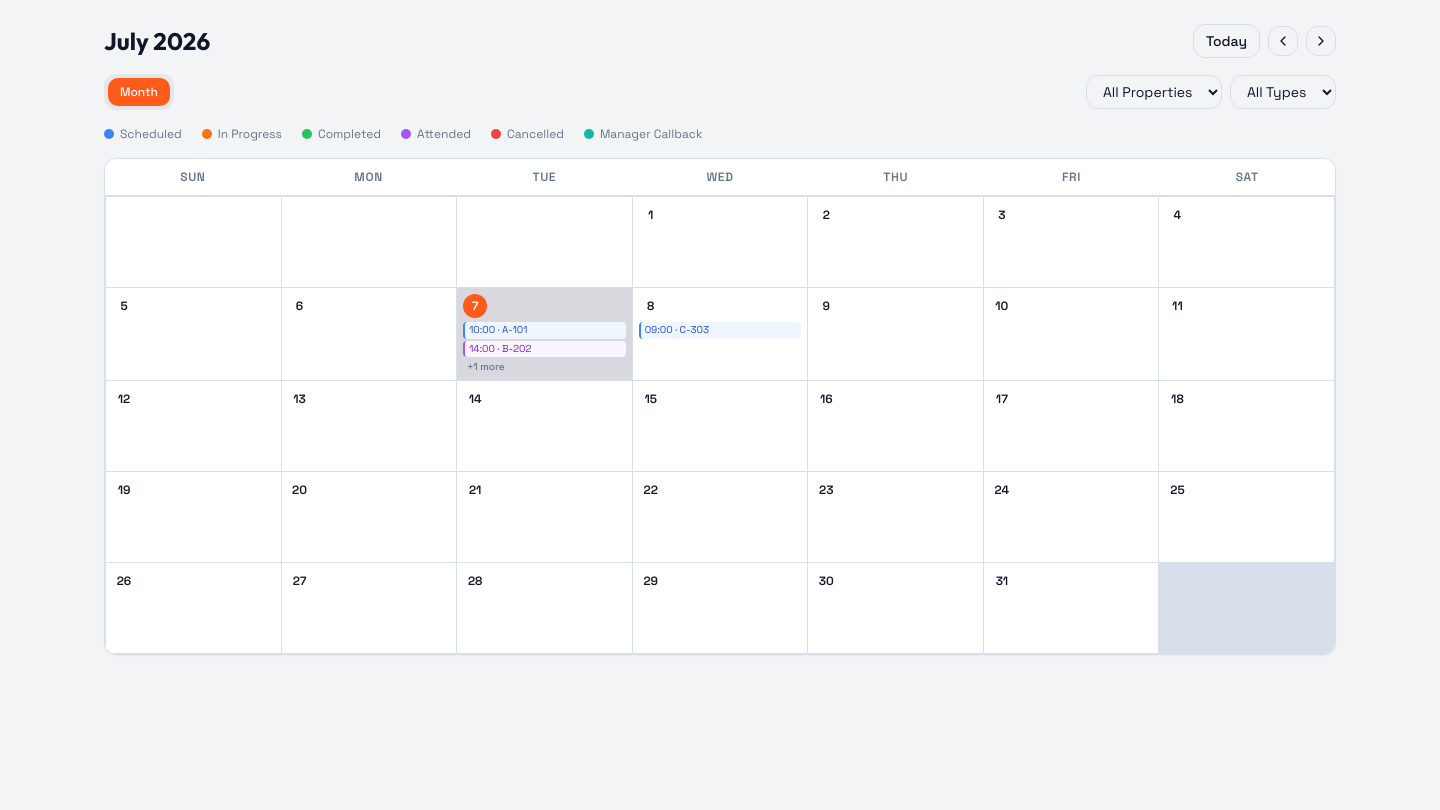
Test case: CalendarView › navigates to the next month on chevron-right click
Header buttons: [Today, ChevronLeft (prev), ChevronRight (next)]
Click the 3rd button.
click(1321, 41)  # box [1306,26,1336,56]
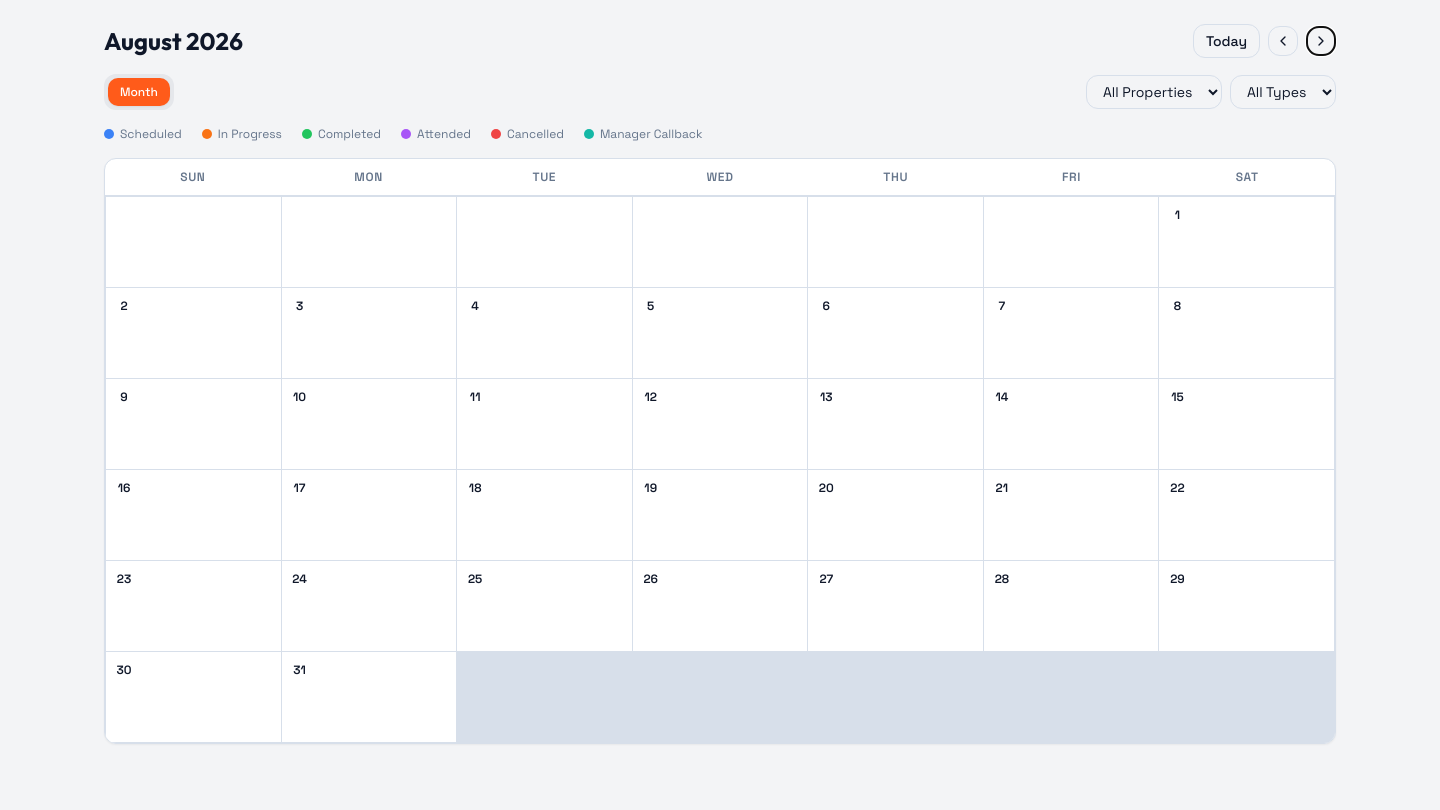
Expected: the heading "August 2026" is shown, [104,25,243,57]
